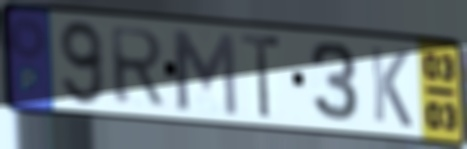3: (306, 39, 362, 126)
9: (56, 17, 106, 109)
K: (367, 43, 415, 131)
M: (167, 26, 242, 120)
R: (106, 25, 168, 109)
T: (238, 30, 284, 122)
